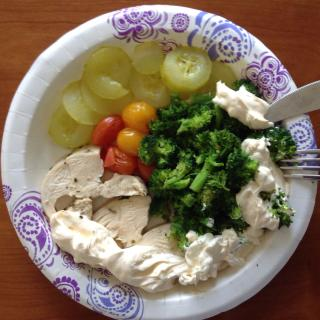tomato: (100, 145, 138, 177), (91, 114, 126, 147), (135, 157, 156, 179)
